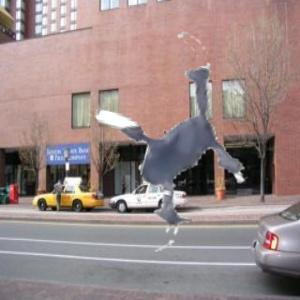drone: (24, 3, 278, 257)
